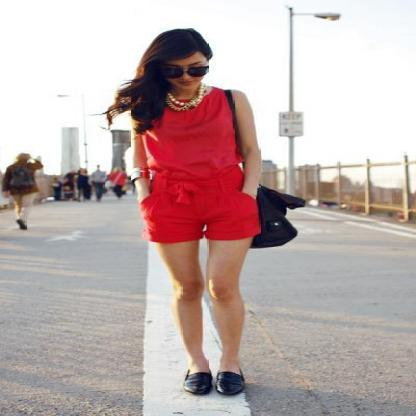bag: (211, 88, 305, 248)
dress: (140, 92, 259, 244)
shoe: (185, 370, 247, 398)
